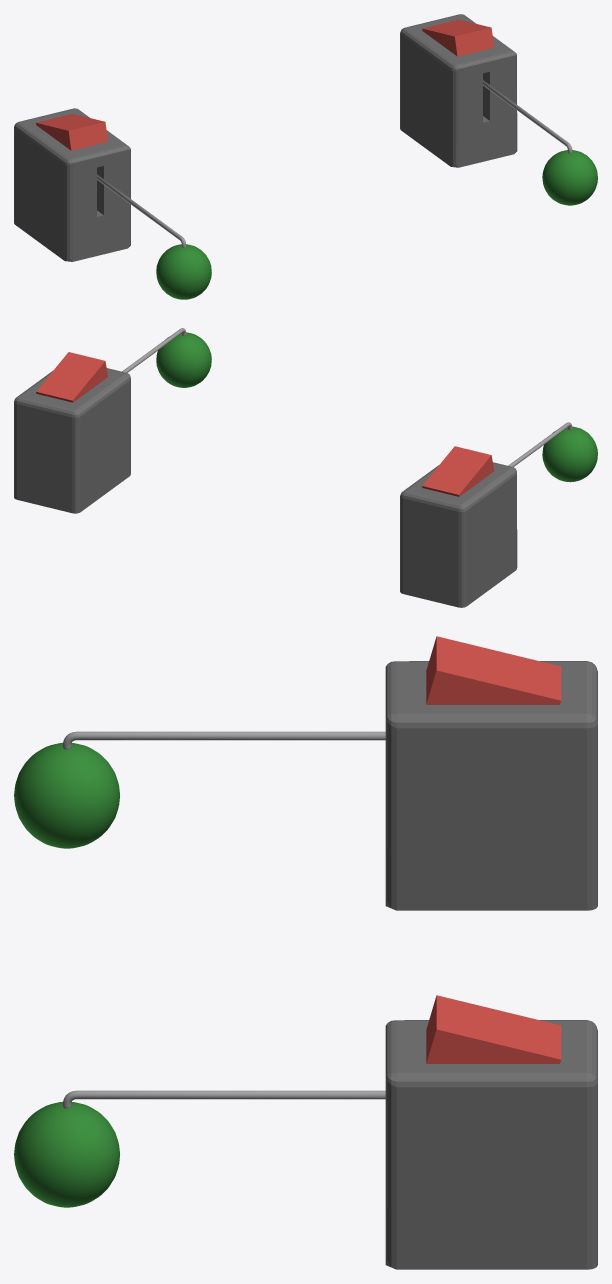
The model's file is waveGenerators.glb.
3 renders of one model, top to bottom at view 1: azimuth 30°, elevation 25°; view 2: azimuth 150°, elevation 25°; view 3: azimuth 270°, elevation 25°, orthographic. The views are drawn at different scales.
Parts seen in each view (by area): view 1: switchBox1, switchBox2, ball2, ball1, switch1, switch2; view 2: switchBox2, switchBox1, ball1, ball2, switch1, switch2; view 3: switchBox2, switchBox1, ball2, ball1, switch1, switch2.
Part boxes in pixels (x1=…): switchBox1: x1=400, y1=14, x2=517, y2=167; switchBox2: x1=14, y1=108, x2=130, y2=261; ball2: x1=97, y1=174, x2=211, y2=299; ball1: x1=483, y1=80, x2=597, y2=205; switch1: x1=422, y1=19, x2=494, y2=56; switch2: x1=36, y1=113, x2=107, y2=150; switchBox2: x1=400, y1=462, x2=517, y2=607; switchBox1: x1=14, y1=368, x2=130, y2=513; ball1: x1=122, y1=328, x2=211, y2=387; ball2: x1=508, y1=422, x2=597, y2=482; switch1: x1=36, y1=352, x2=107, y2=402; switch2: x1=422, y1=446, x2=494, y2=496; switchBox2: x1=385, y1=661, x2=597, y2=910; switchBox1: x1=385, y1=1020, x2=597, y2=1269; ball2: x1=14, y1=731, x2=385, y2=848; ball1: x1=14, y1=1090, x2=385, y2=1207; switch1: x1=426, y1=995, x2=561, y2=1063; switch2: x1=426, y1=636, x2=561, y2=704.
Size of the model in its own units: 4.68 by 1.18 by 2.75.
